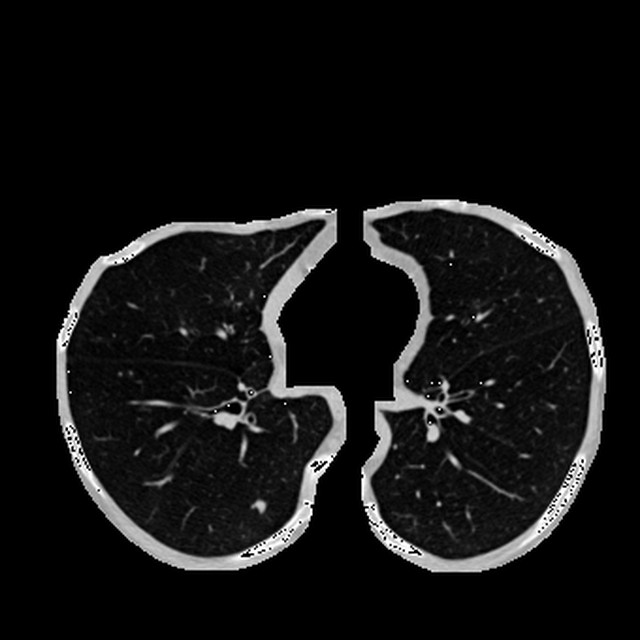PN: (254, 501, 265, 512)
